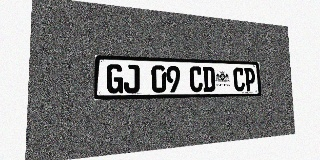0: (151, 65, 166, 93)
9: (166, 66, 180, 92)
C: (189, 66, 203, 92), (233, 67, 245, 91)
D: (202, 67, 215, 92)
G: (106, 64, 123, 94)
J: (124, 64, 139, 93)
P: (244, 68, 256, 91)
